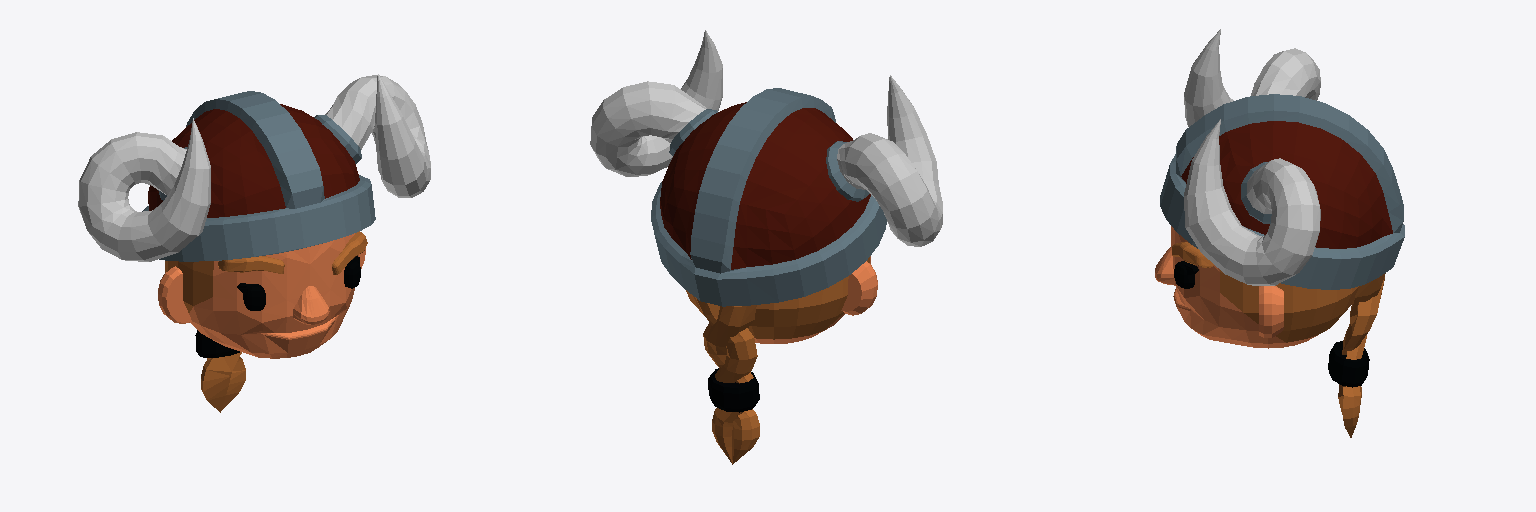
The model's file is vikingFemaleHeadA_helmet.obj.
3 views of the same model, side by side, from view 1: azimuth 30°, elevation 25°; view 2: azimuth 150°, elevation 25°; view 3: azimuth 270°, elevation 25° (orthographic).
Visible parts, largest first — view 1: vikingFemaleHeadA_helmet_Cube.4992; view 2: vikingFemaleHeadA_helmet_Cube.4992; view 3: vikingFemaleHeadA_helmet_Cube.4992.
Boxes of the visible parts, x1,y1,x2,y2 form: vikingFemaleHeadA_helmet_Cube.4992: [78, 74, 430, 412]; vikingFemaleHeadA_helmet_Cube.4992: [590, 30, 942, 464]; vikingFemaleHeadA_helmet_Cube.4992: [1155, 29, 1404, 437].
Bounding box in the file's own units: 1.95 × 2.01 × 1.25.